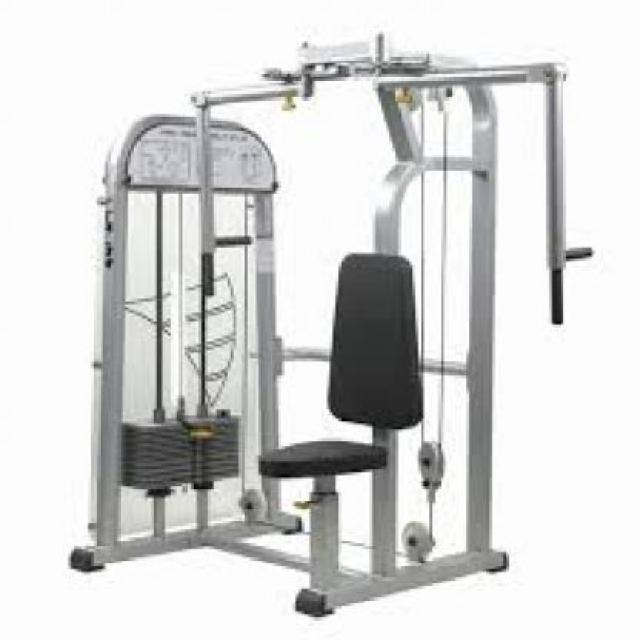chest fly machine: (43, 24, 640, 638)
